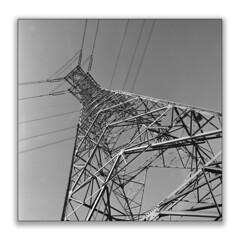power_tower: (50, 44, 222, 223)
